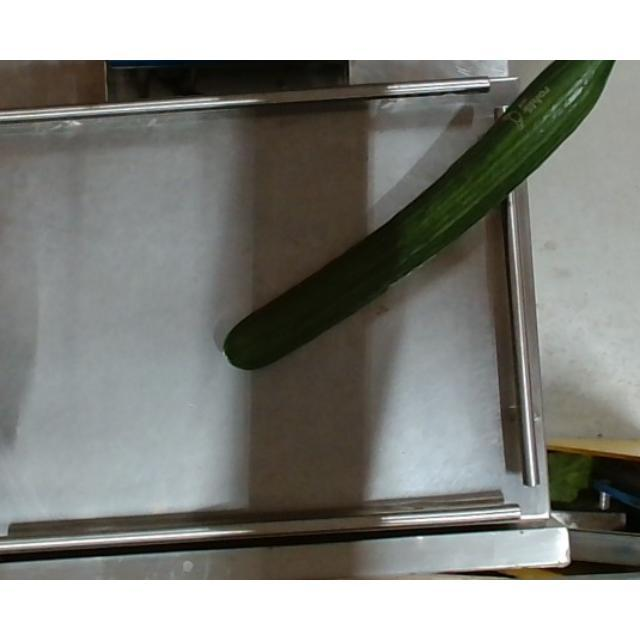cucumber: (218, 60, 616, 368)
